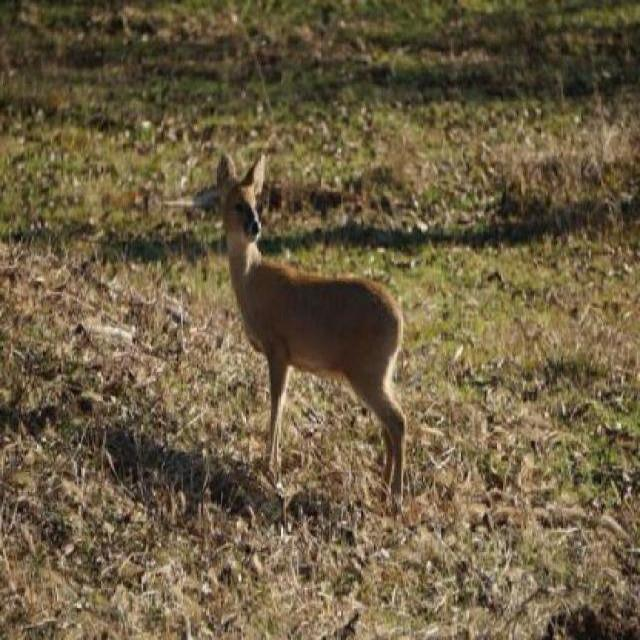deer: (210, 147, 419, 524)
